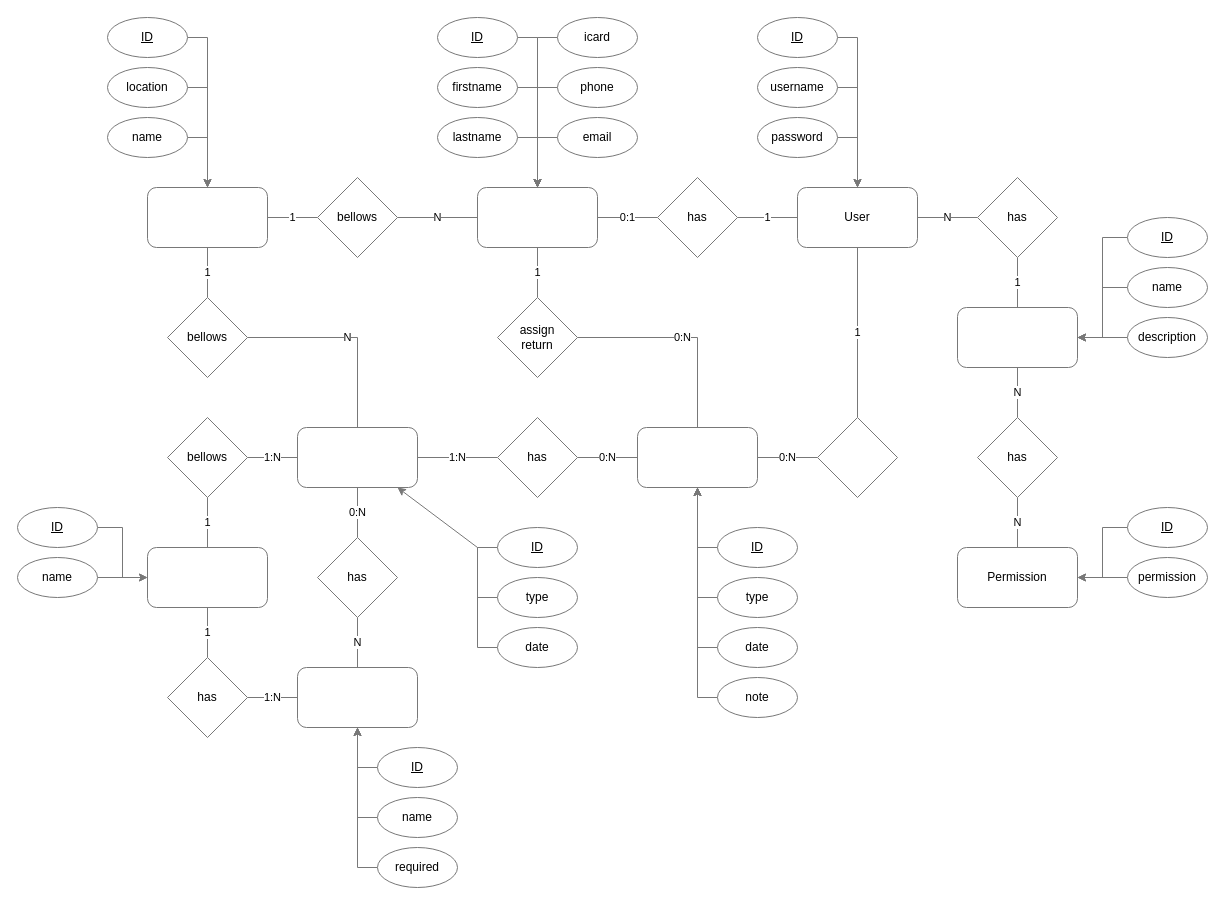
This 1225x905 diagram has some shape labels left out. The shapes that lost their labels are listed below. From the top down, each one's centre as x and y in pixels, then its label:
point 207,217: Branch
point 537,217: Worker
point 1017,337: Role
point 357,457: Item
point 697,457: Transaction
point 857,457: do
point 207,577: Category
point 357,697: Attribute
